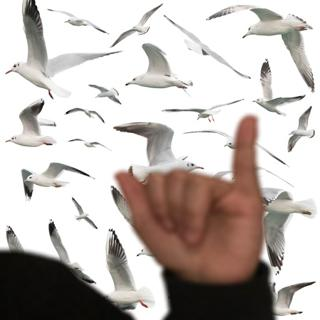HAVE: (110, 106, 279, 285)
